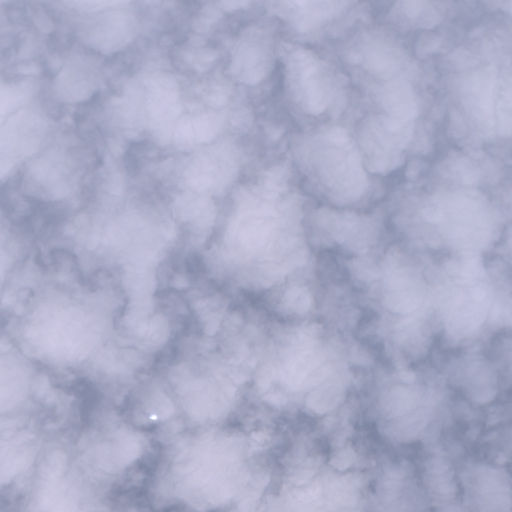Iceberg: (149, 415, 156, 419)
